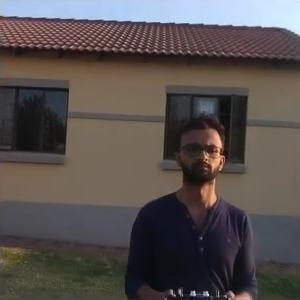follow: (117, 103, 260, 299)
